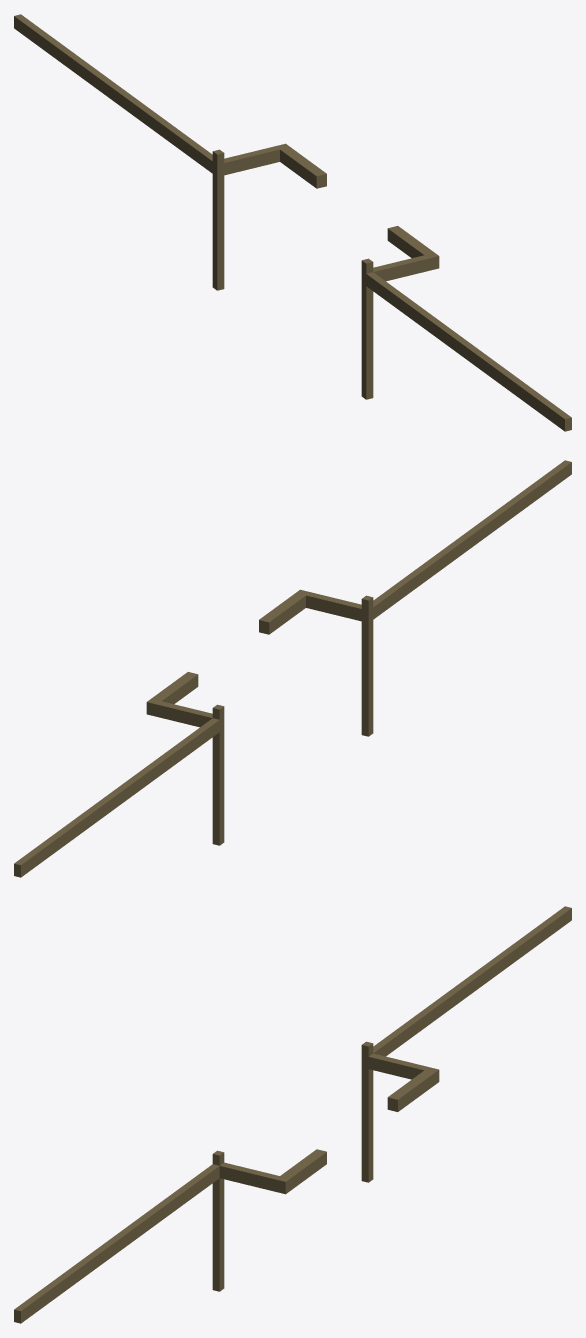
The model's file is frame.fbx.
3 views of the same model, one above another, from view 1: azimuth 30°, elevation 25°; view 2: azimuth 150°, elevation 25°; view 3: azimuth 330°, elevation 25° (orthographic).
Visible parts, largest first — view 1: Cube.002; view 2: Cube.002; view 3: Cube.002.
Part boxes in pixels (x1,y1,x2,y2): Cube.002: (14,14,571,431); Cube.002: (14,460,571,877); Cube.002: (14,906,571,1323).
Size of the model in its own units: 323 by 575 by 4215.
